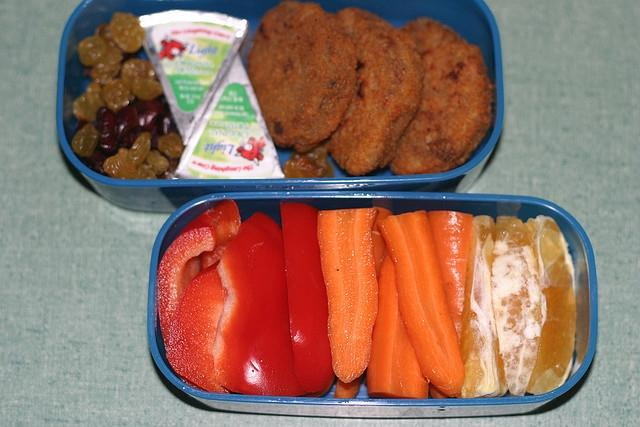bell pepper: (213, 208, 310, 396), (279, 201, 334, 392), (167, 258, 229, 394), (178, 198, 240, 272)
carrot: (374, 210, 466, 396), (318, 208, 380, 382), (368, 252, 430, 398), (428, 211, 472, 344)
orange: (491, 215, 546, 397), (457, 214, 507, 398), (526, 218, 576, 396)
